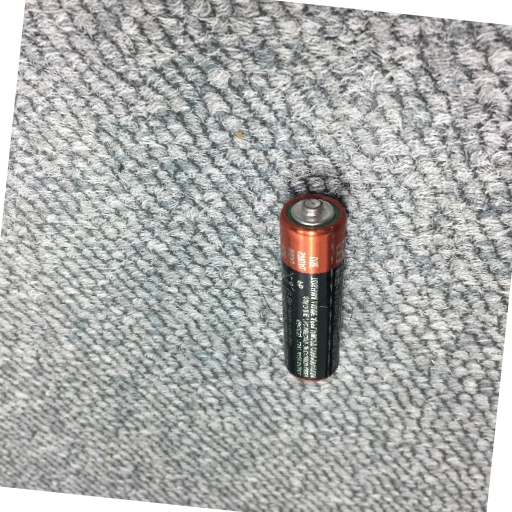Battery_0: (260, 179, 351, 400)
